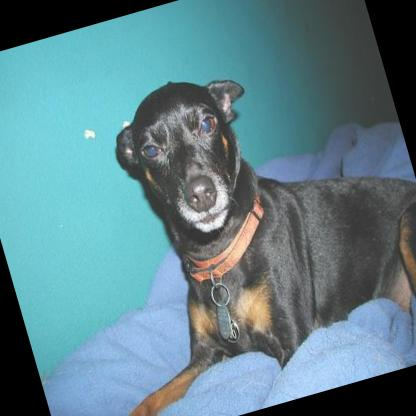miniature_pinscher: (1, 21, 416, 416)
